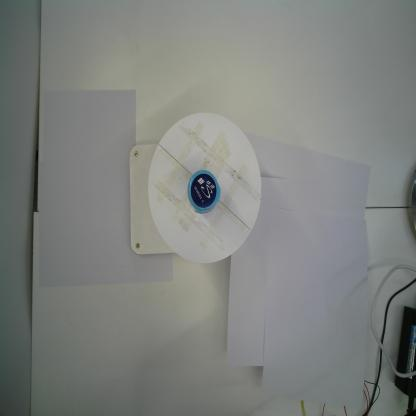Gum: (186, 169, 221, 215)
